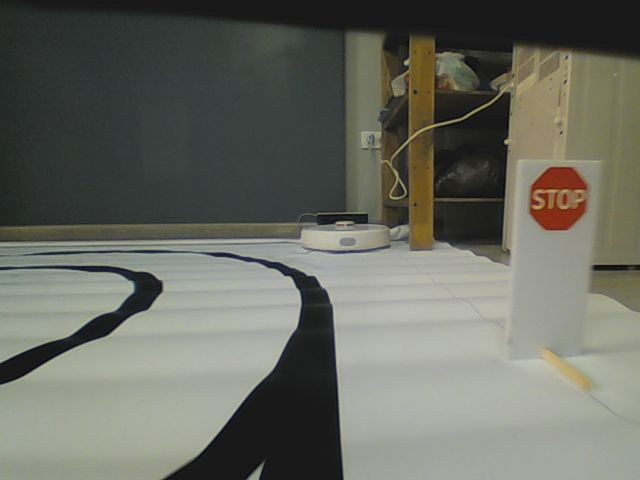Stop: (526, 165, 592, 233)
